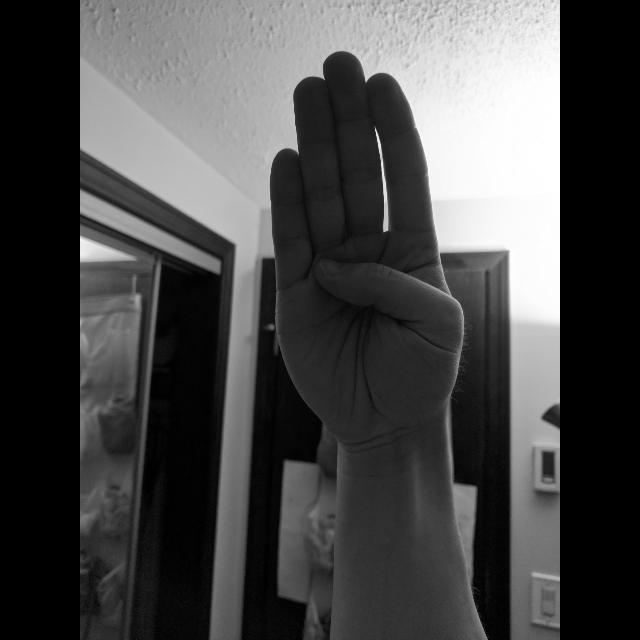B: (260, 46, 472, 458)
